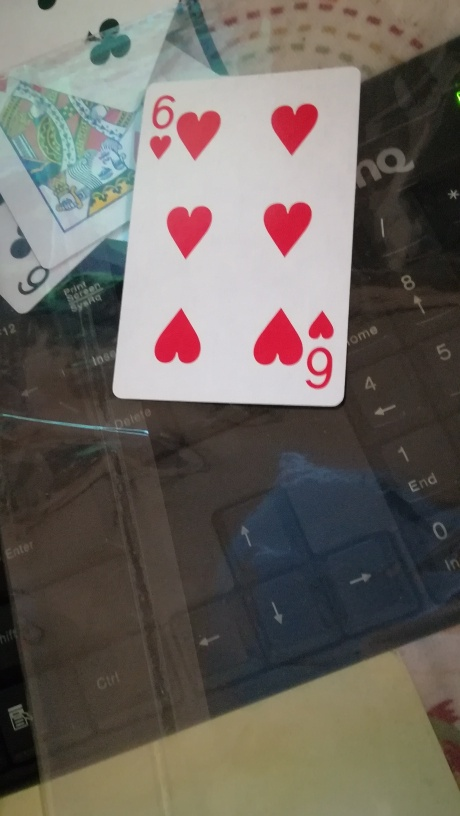hx 6: (113, 63, 361, 407)
